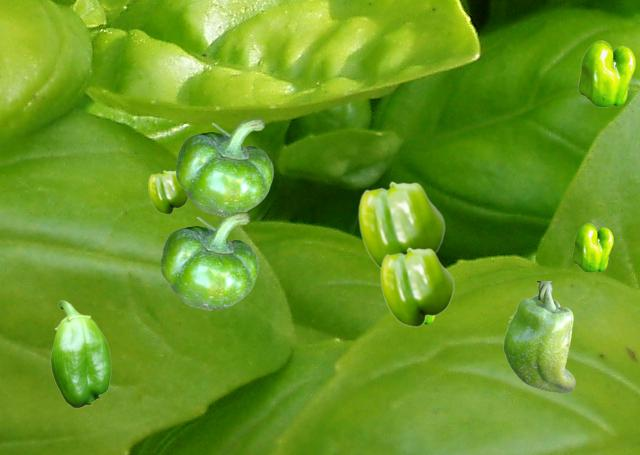bell_pepper: (176, 117, 272, 215), (161, 211, 257, 309), (503, 281, 574, 392), (358, 181, 444, 268), (50, 300, 110, 407), (380, 247, 453, 326), (578, 40, 634, 106), (572, 223, 612, 271), (148, 170, 188, 213), (424, 317, 435, 324)
